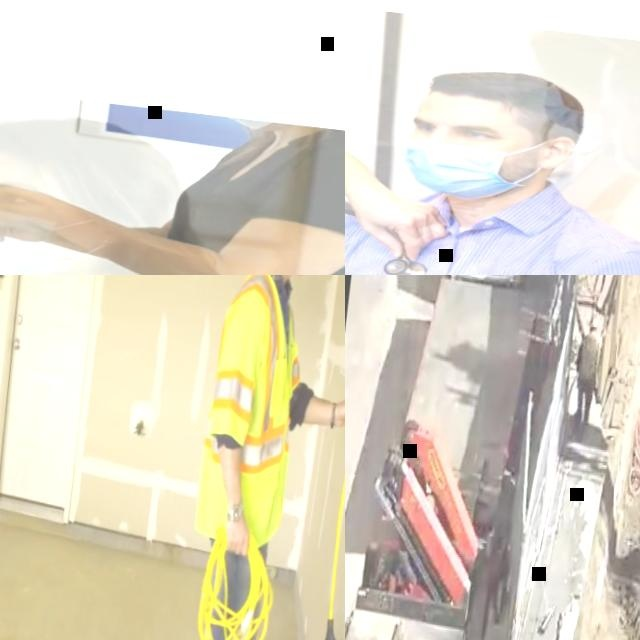Hardhat: (587, 317, 599, 328)
Mask: (398, 134, 511, 206), (0, 204, 82, 275), (541, 84, 604, 139), (596, 132, 640, 183), (225, 114, 272, 134)
NO-Hardhat: (0, 106, 162, 191), (418, 60, 588, 136), (516, 27, 602, 79), (605, 38, 640, 106)
NO-Safety Vest: (129, 113, 345, 275)
Person: (345, 47, 640, 275), (164, 275, 345, 640), (0, 98, 265, 275), (120, 107, 345, 275), (345, 0, 453, 275), (587, 40, 640, 259), (526, 28, 631, 133), (567, 315, 604, 426)
Safety Vest: (191, 275, 312, 549)
machinery: (357, 413, 497, 606)
